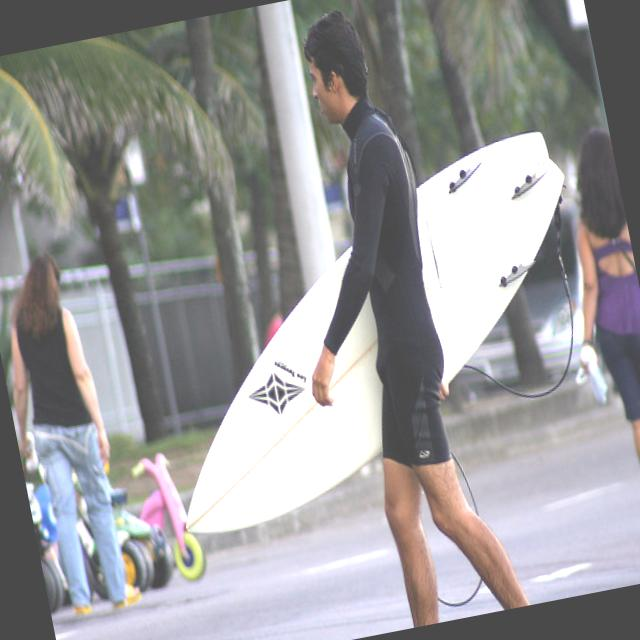Vehicle: (435, 296, 596, 400)
